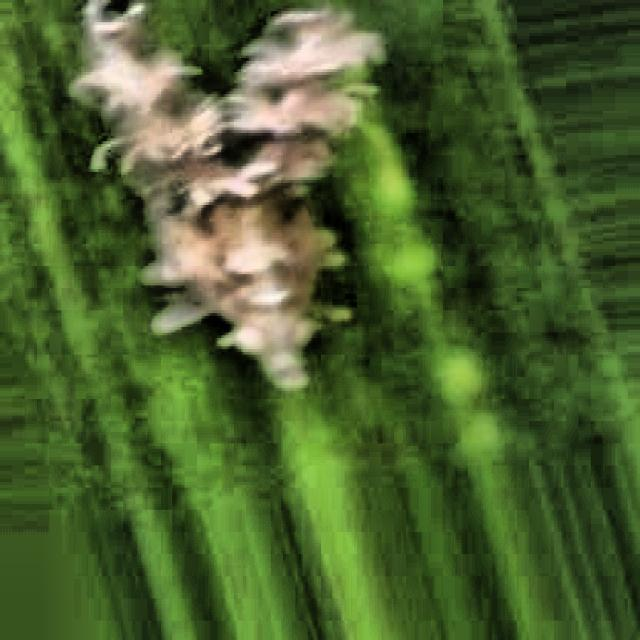Pyrilla-perpusilla: (32, 0, 414, 458)
